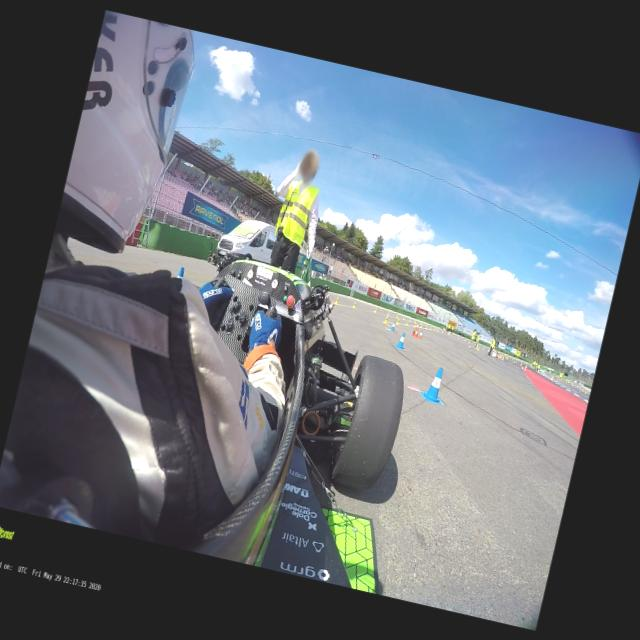blue_cone: (420, 364, 448, 404), (396, 331, 408, 349), (177, 266, 184, 280), (389, 321, 396, 332)
orange_cone: (415, 329, 424, 338), (413, 323, 419, 331), (412, 328, 416, 337), (414, 328, 418, 336), (520, 365, 523, 370)
yellow_cone: (334, 296, 339, 306), (351, 300, 356, 308), (384, 316, 388, 324), (372, 306, 377, 312), (395, 318, 400, 324), (474, 344, 479, 350), (412, 322, 417, 328), (386, 310, 390, 316), (394, 313, 398, 318), (405, 320, 408, 326)
